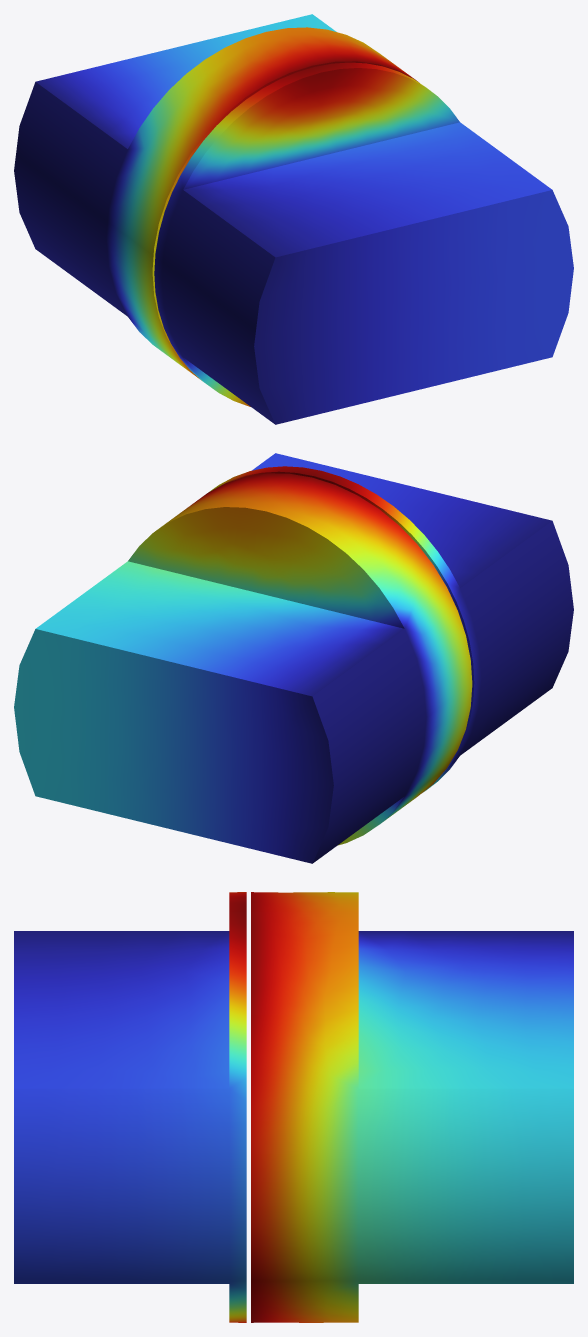
The model's file is PilaN2-H20_mh2-8.20_V-0.8.glb.
3 renders of one model, top to bottom at view 1: azimuth 30°, elevation 25°; view 2: azimuth 150°, elevation 25°; view 3: azimuth 270°, elevation 25°, orthographic. The views are drawn at different scales.
Size of the model in its own units: 0.001 by 0.001 by 0.0013.
Materials: 2 (2 with a texture image).
